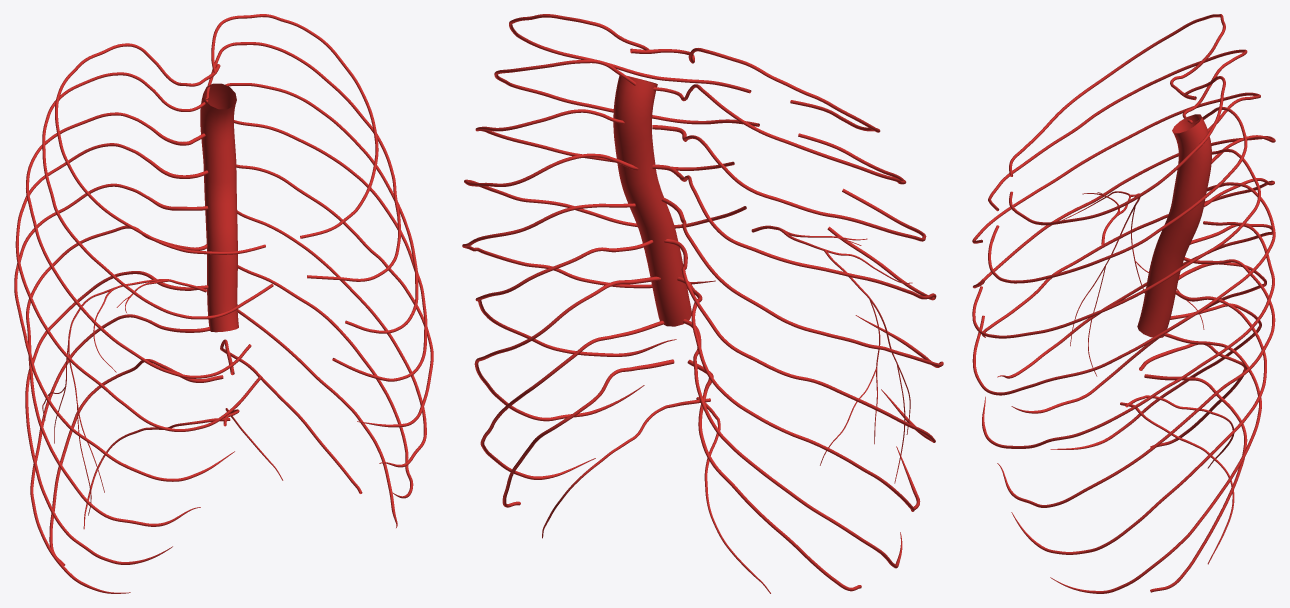
File: circulatorio-thoracic-aorta.glb
3 views of the same model, side by side, from view 1: azimuth 30°, elevation 25°; view 2: azimuth 150°, elevation 25°; view 3: azimuth 270°, elevation 25° (orthographic). The views are drawn at different scales.
Parts seen in each view (by area): view 1: Posterior intercostal arteries.r, Posterior intercostal arteries.l, Thoracic aorta, Superior phrenic arteries; view 2: Posterior intercostal arteries.r, Posterior intercostal arteries.l, Thoracic aorta, Superior phrenic arteries, Subcostal artery.l, Subcostal artery.r; view 3: Posterior intercostal arteries.l, Posterior intercostal arteries.r, Thoracic aorta, Superior phrenic arteries, Subcostal artery.l, Subcostal artery.r.
Part boxes in pixels (left/top/right/bottom): Posterior intercostal arteries.r: left=14, top=43, right=273, bottom=593; Posterior intercostal arteries.l: left=206, top=14, right=433, bottom=527; Thoracic aorta: left=200, top=83, right=238, bottom=332; Superior phrenic arteries: left=42, top=279, right=206, bottom=515; Posterior intercostal arteries.r: left=630, top=48, right=943, bottom=591; Posterior intercostal arteries.l: left=462, top=14, right=759, bottom=507; Thoracic aorta: left=613, top=75, right=691, bottom=326; Superior phrenic arteries: left=751, top=225, right=912, bottom=483; Subcostal artery.l: left=542, top=398, right=710, bottom=538; Subcostal artery.r: left=696, top=397, right=770, bottom=593; Posterior intercostal arteries.l: left=972, top=76, right=1275, bottom=593; Posterior intercostal arteries.r: left=972, top=14, right=1275, bottom=449; Thoracic aorta: left=1137, top=114, right=1211, bottom=338; Superior phrenic arteries: left=1061, top=191, right=1204, bottom=376; Subcostal artery.l: left=1120, top=402, right=1234, bottom=564; Subcostal artery.r: left=1125, top=395, right=1233, bottom=468.
Bounding box in the file's own units: 0.2754 × 0.3336 × 0.1963.
